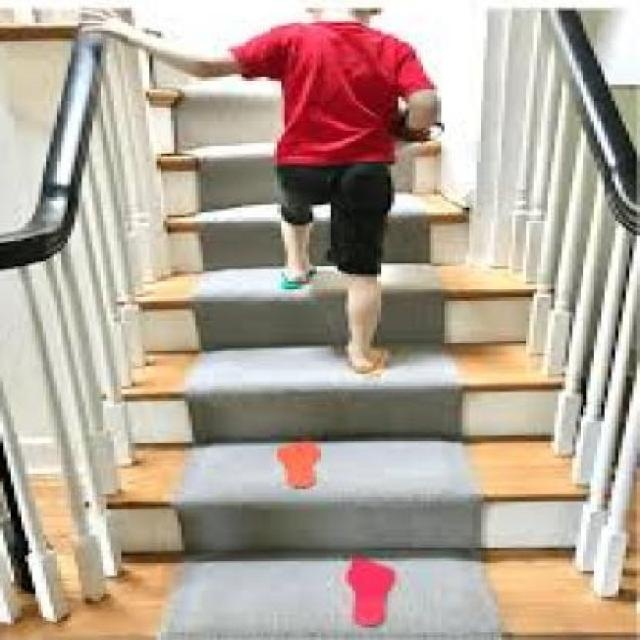stair: (1, 1, 640, 640)
